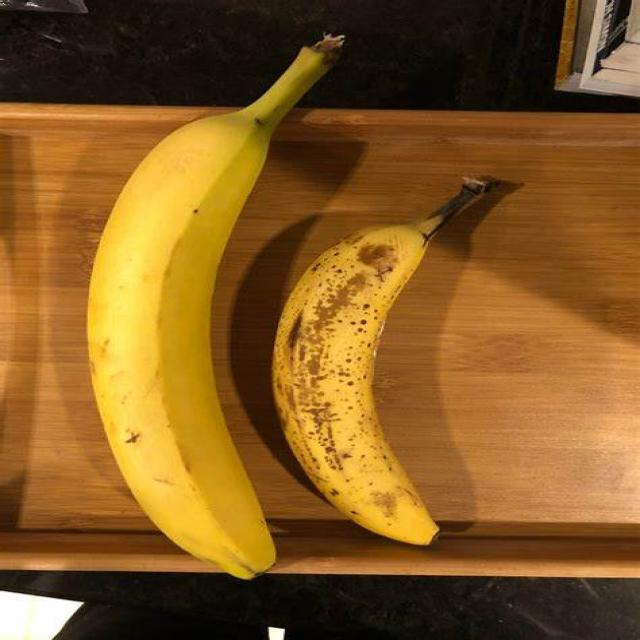Banana: (75, 28, 347, 574), (282, 172, 530, 543)
